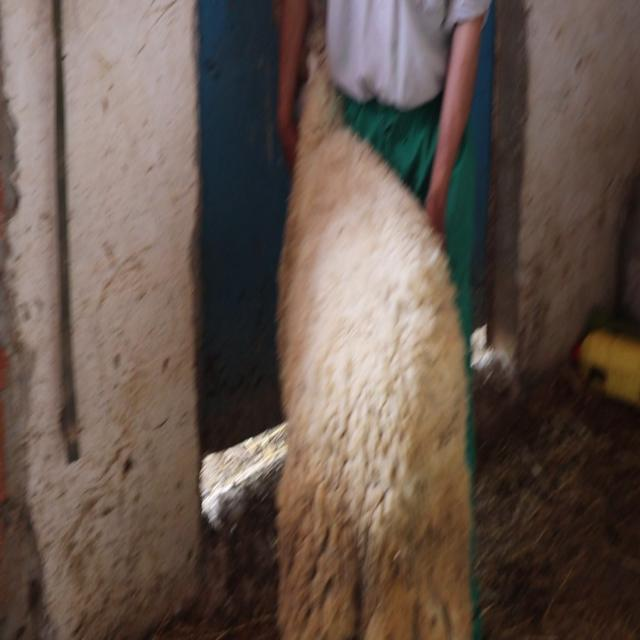Score_4: (276, 21, 473, 639)
